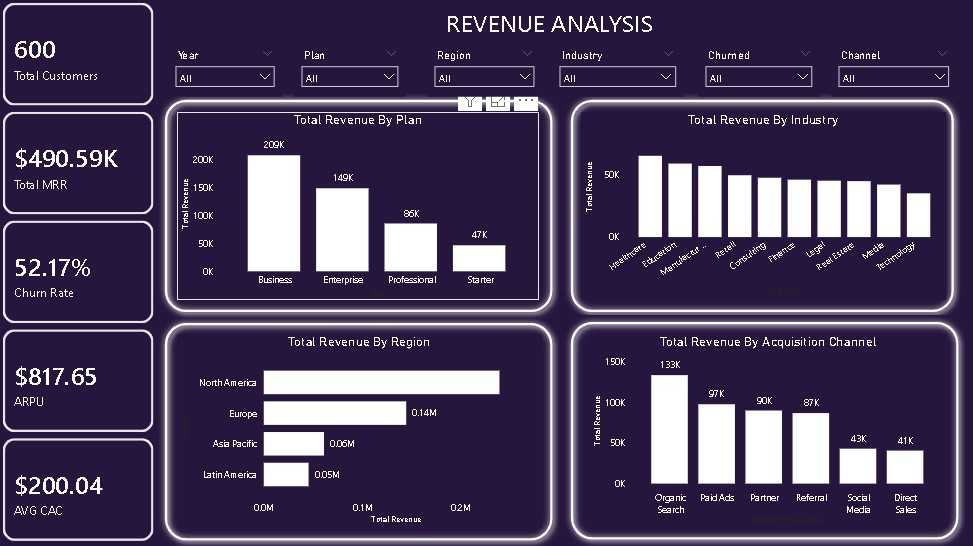

The dashboard page shown, as its layout file describes it:
{"tool":"powerbi","page":{"name":"REVENUE ANALYSIS","canvas":[1280,720],"ordinal":1},"visuals":[{"type":"shape","box":[208.7,416.2,527.2,304],"z":0},{"type":"shape","box":[742,123.1,521.2,296.8],"z":1000},{"type":"shape","box":[742,415,527.2,304],"z":2000},{"type":"shape","box":[208.7,123.1,527.2,296.8],"z":3000},{"type":"cardVisual","fields":{"Data":["subscriptions.Total Customers","subscriptions.Total MRR","subscriptions.Churn Rate","subscriptions.ARPU","subscriptions.AVG CAC"]},"box":[0,0,208.7,720.2],"z":4000},{"type":"clusteredColumnChart","title":"Total Revenue By Plan","fields":{"Category":["subscriptions.plan"],"Y":["Sum(subscriptions.monthly_revenue)"]},"box":[234,148.4,475.3,247.3],"z":5000},{"type":"clusteredColumnChart","title":"Total Revenue By Acquisition Channel","fields":{"Category":["subscriptions.acquisition_channel"],"Y":["Sum(subscriptions.monthly_revenue)"]},"box":[774.5,440.4,470.5,254.6],"z":6000},{"type":"slicer","fields":{"Values":["subscriptions.plan"]},"box":[387.3,60.5,147.2,67.6],"z":7000},{"type":"slicer","fields":{"Values":["subscriptions.region"]},"box":[562.2,60.5,150.8,67.6],"z":8000},{"type":"slicer","fields":{"Values":["subscriptions.industry"]},"box":[726.3,60.5,172.5,67.6],"z":9000},{"type":"slicer","fields":{"Values":["subscriptions.churned"]},"box":[918.1,60.5,160.5,67.6],"z":10000},{"type":"slicer","fields":{"Values":["subscriptions.acquisition_channel"]},"box":[1093,60.5,165.3,67.6],"z":11000},{"type":"slicer","fields":{"Values":["monthly_revenue.month.Variation.Date Hierarchy.Year"]},"box":[222,60.5,149.6,67.6],"z":12000},{"type":"clusteredColumnChart","title":"Total Revenue By Industry","fields":{"Category":["subscriptions.industry"],"Y":["Sum(subscriptions.monthly_revenue)"]},"box":[764.9,148.4,480.2,247.3],"z":13000},{"type":"shape","box":[252.1,0,942.2,60.3],"z":14000},{"type":"clusteredBarChart","title":"Total Revenue By Region","fields":{"Y":["Sum(subscriptions.monthly_revenue)"],"Category":["subscriptions.region"]},"box":[234,440.4,479,254.6],"z":15000}]}

Visuals, with their boxes in screenshot pixels (x1, y1, x2, y2), scaled from the page's 1280x720 canvas onto the 973x546 screenshot:
shape: left=159, top=316, right=559, bottom=545
shape: left=564, top=93, right=960, bottom=318
shape: left=564, top=315, right=965, bottom=545
shape: left=159, top=93, right=559, bottom=318
cardVisual - subscriptions.Total Customers x subscriptions.Total MRR: left=0, top=0, right=159, bottom=545
"Total Revenue By Plan" clusteredColumnChart: left=178, top=113, right=539, bottom=300
"Total Revenue By Acquisition Channel" clusteredColumnChart: left=589, top=334, right=946, bottom=527
slicer - subscriptions.plan: left=294, top=46, right=406, bottom=97
slicer - subscriptions.region: left=427, top=46, right=542, bottom=97
slicer - subscriptions.industry: left=552, top=46, right=683, bottom=97
slicer - subscriptions.churned: left=698, top=46, right=820, bottom=97
slicer - subscriptions.acquisition_channel: left=831, top=46, right=957, bottom=97
slicer - monthly_revenue.month.Variation.Date Hierarchy.Year: left=169, top=46, right=282, bottom=97
"Total Revenue By Industry" clusteredColumnChart: left=581, top=113, right=946, bottom=300
shape: left=192, top=0, right=908, bottom=46
"Total Revenue By Region" clusteredBarChart: left=178, top=334, right=542, bottom=527
